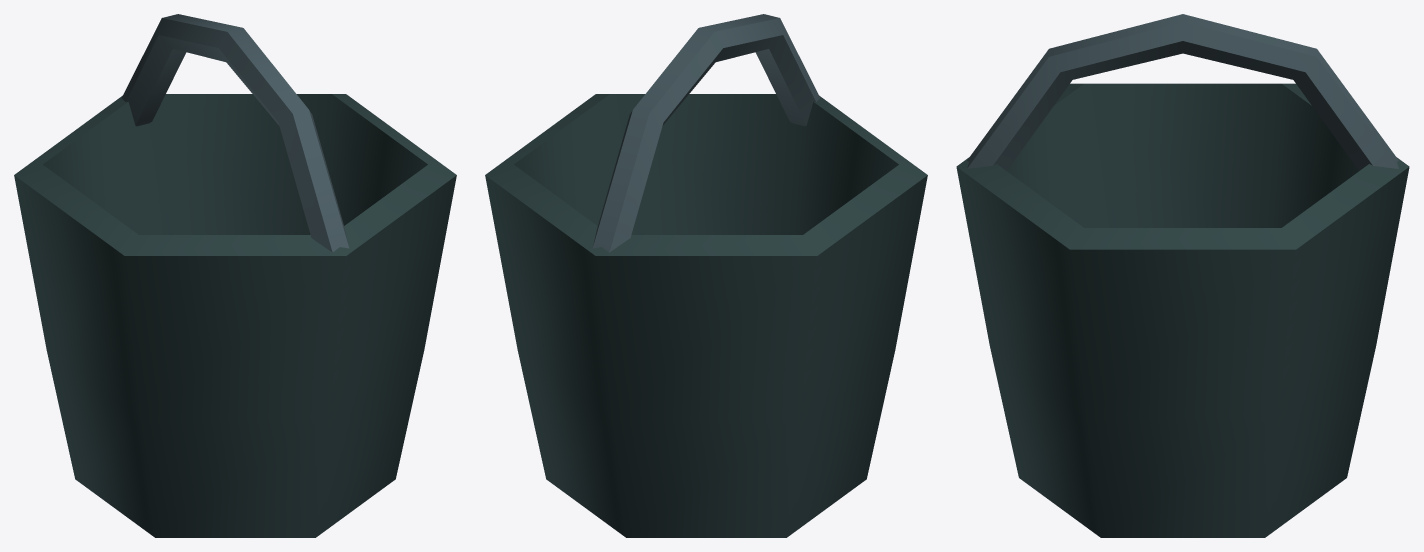
The model's file is Bucket_1_C_1.fbx.
The picture shows the model from 3 angles, left to right: view 1: azimuth 30°, elevation 25°; view 2: azimuth 150°, elevation 25°; view 3: azimuth 270°, elevation 25°; orthographic projection. The views are drawn at different scales.
Parts seen in each view (by area): view 1: Bucket_1_C_1; view 2: Bucket_1_C_1; view 3: Bucket_1_C_1.
Boxes of the visible parts, left/top/right/bottom form: Bucket_1_C_1: left=14, top=14, right=456, bottom=537; Bucket_1_C_1: left=485, top=14, right=927, bottom=537; Bucket_1_C_1: left=956, top=14, right=1409, bottom=537.
Bounding box in the file's own units: 35.25 × 45.58 × 40.71.
